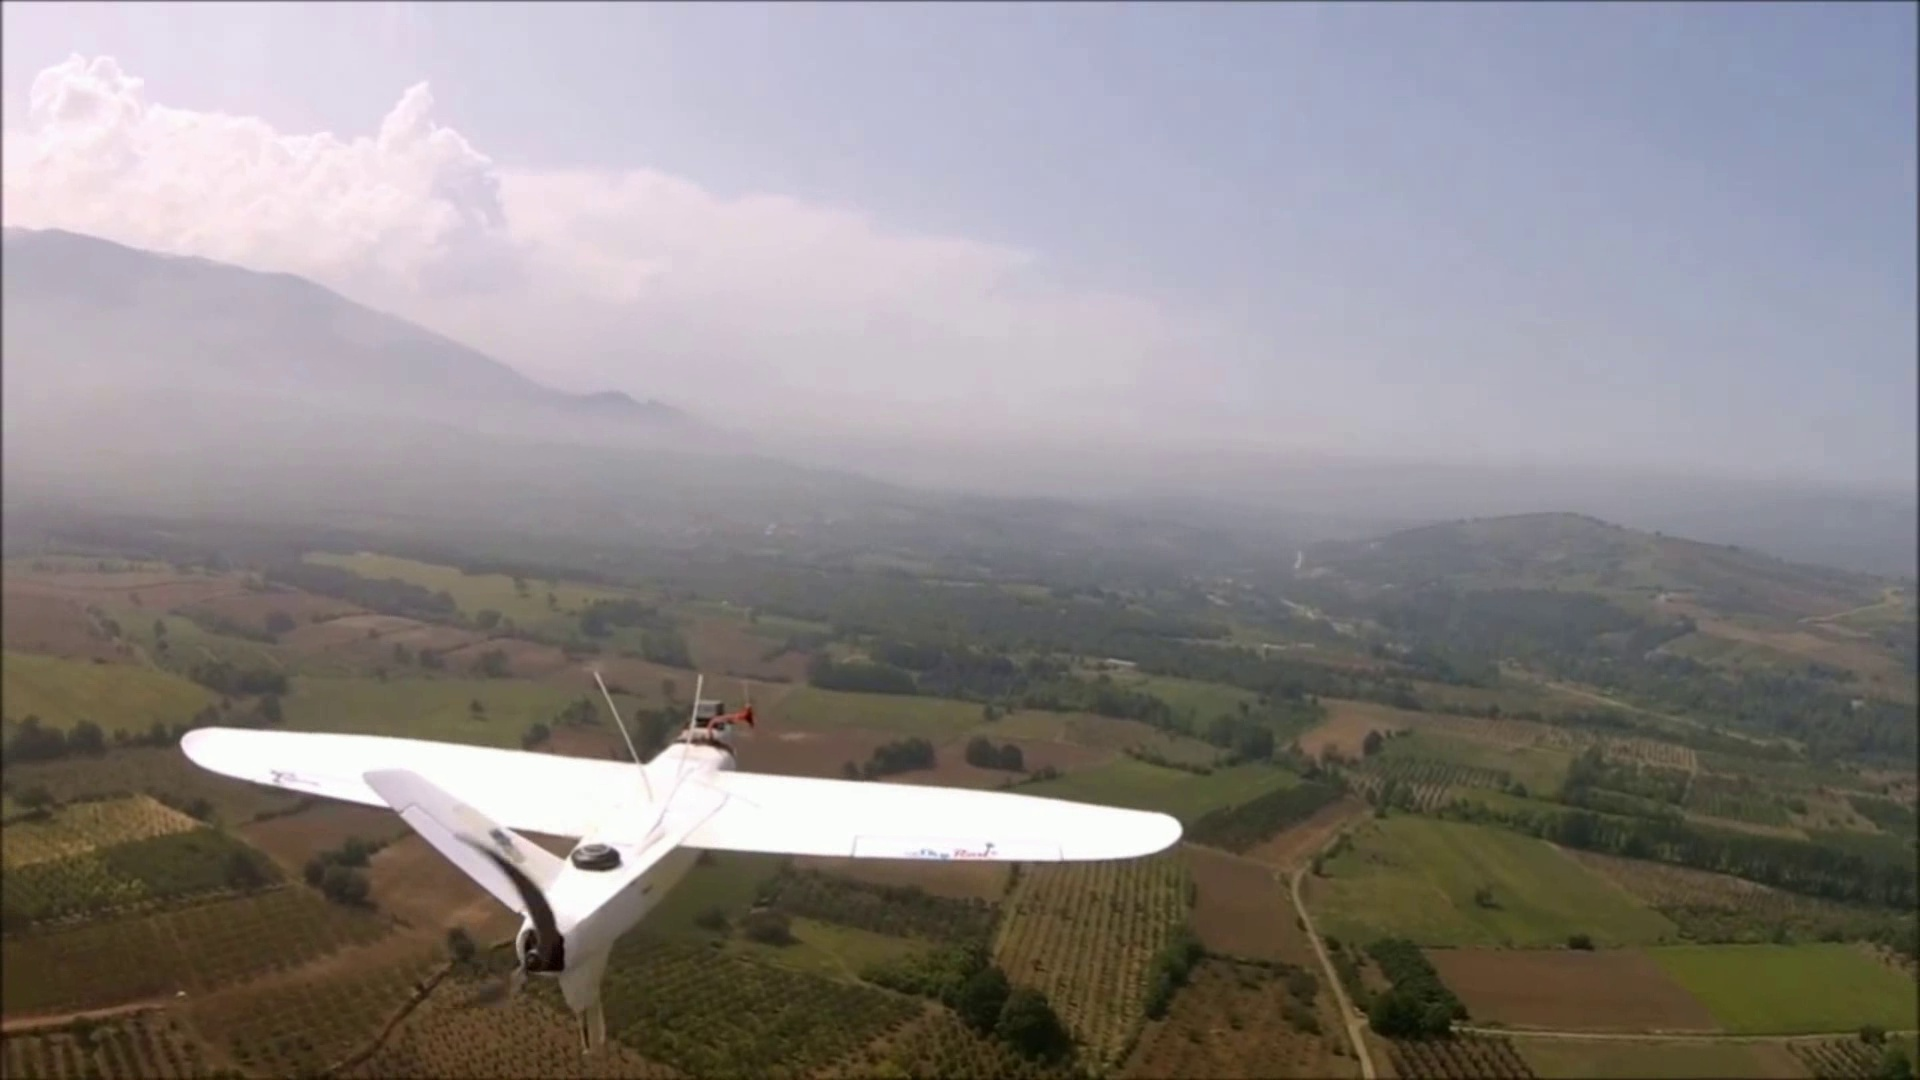airplane: (182, 687, 1185, 1052)
